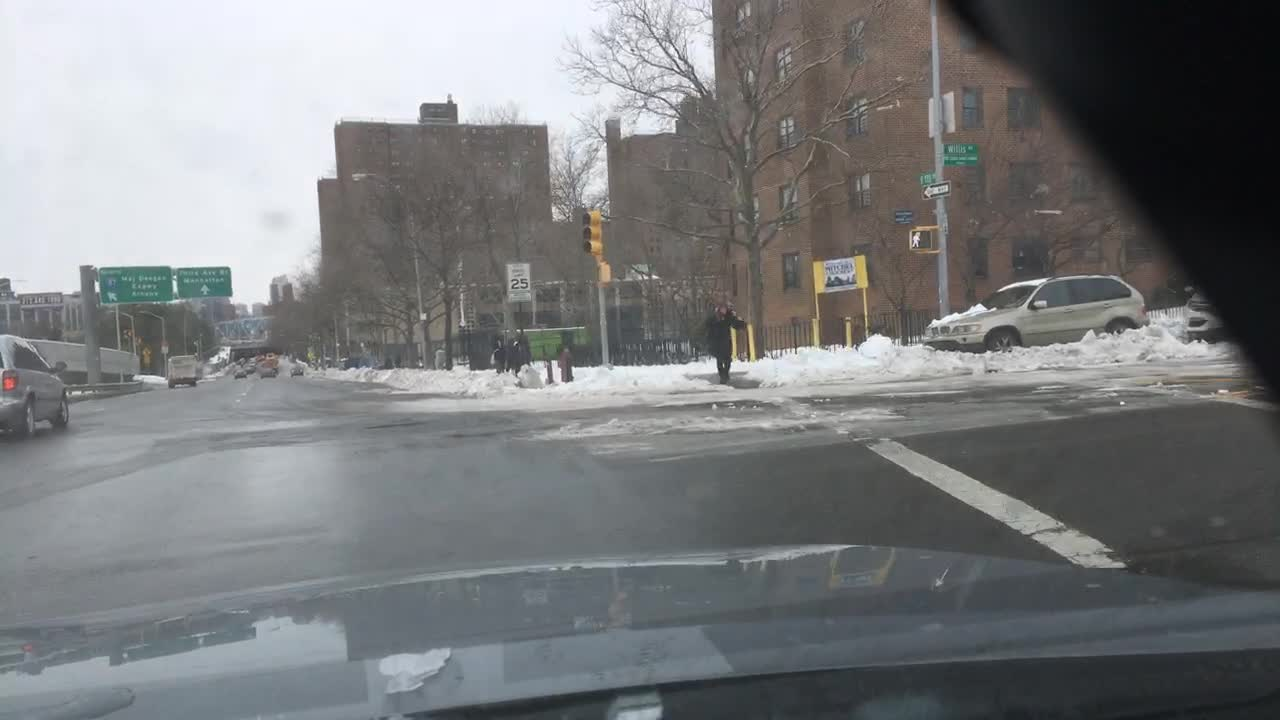car: (919, 266, 1150, 356), (0, 334, 69, 452), (1182, 273, 1228, 342), (290, 365, 305, 380), (232, 366, 246, 381), (212, 346, 229, 358), (261, 350, 280, 359), (242, 362, 254, 376), (205, 361, 221, 371), (261, 366, 276, 376)
person: (705, 299, 747, 382), (558, 343, 573, 387), (511, 338, 523, 375), (496, 338, 504, 375), (384, 353, 394, 373)
traffic light: (579, 210, 605, 256), (907, 222, 934, 259), (597, 261, 613, 286)
traffic sign: (94, 264, 173, 306), (175, 267, 234, 299), (924, 92, 956, 138), (504, 262, 531, 301), (941, 142, 982, 166), (921, 179, 955, 200), (892, 206, 914, 225), (917, 173, 938, 185)
truck: (163, 354, 199, 390)
